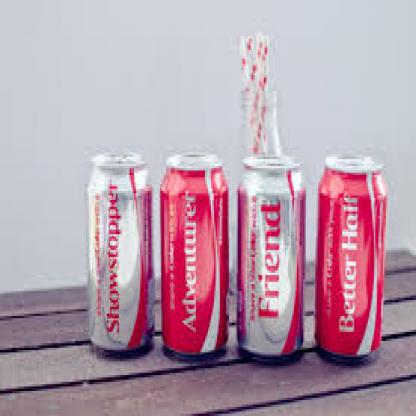METAL: (157, 152, 229, 355), (316, 154, 386, 362), (235, 152, 303, 359), (86, 152, 155, 355)
